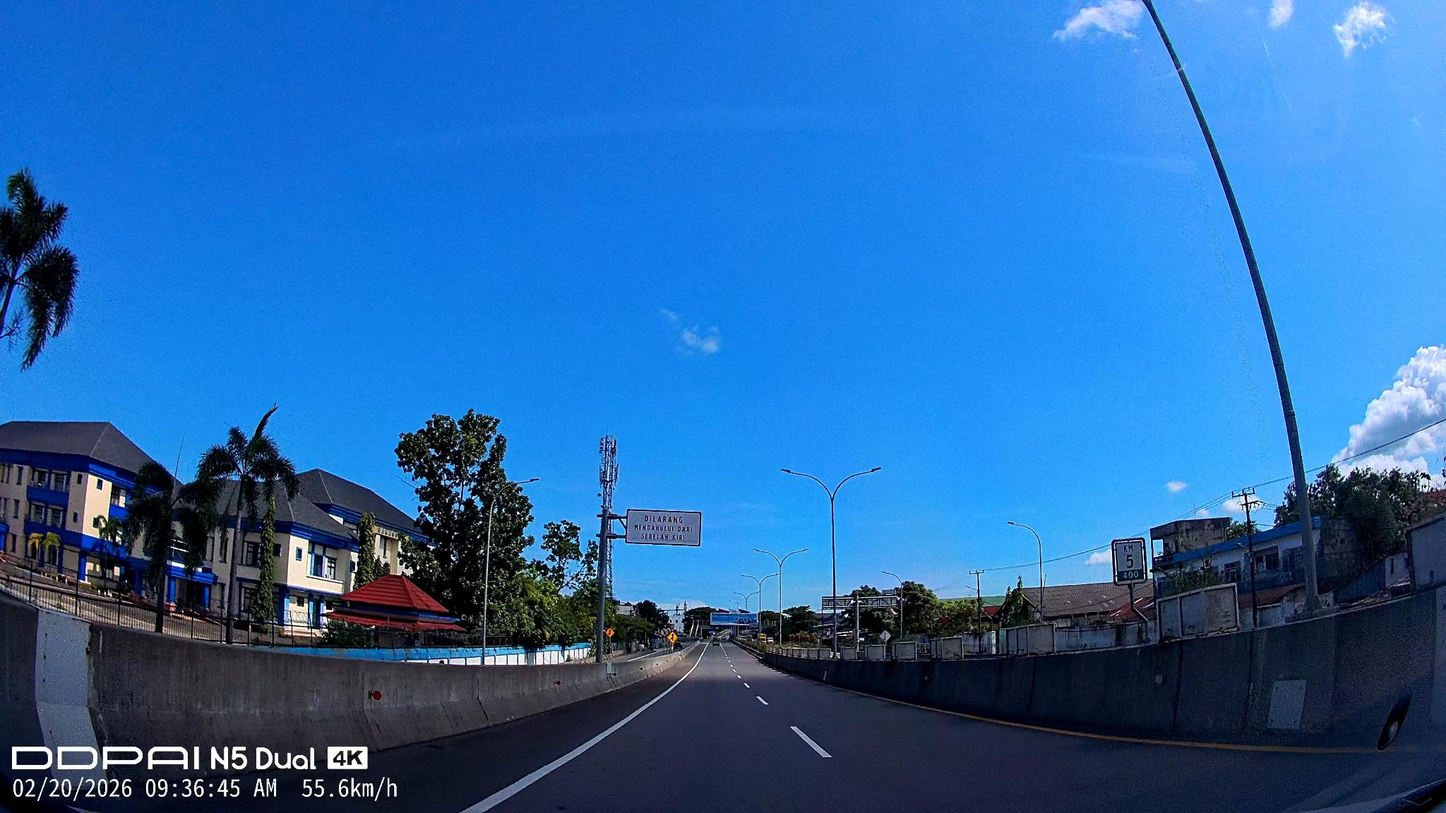rambu_teks: (625, 508, 702, 548)
